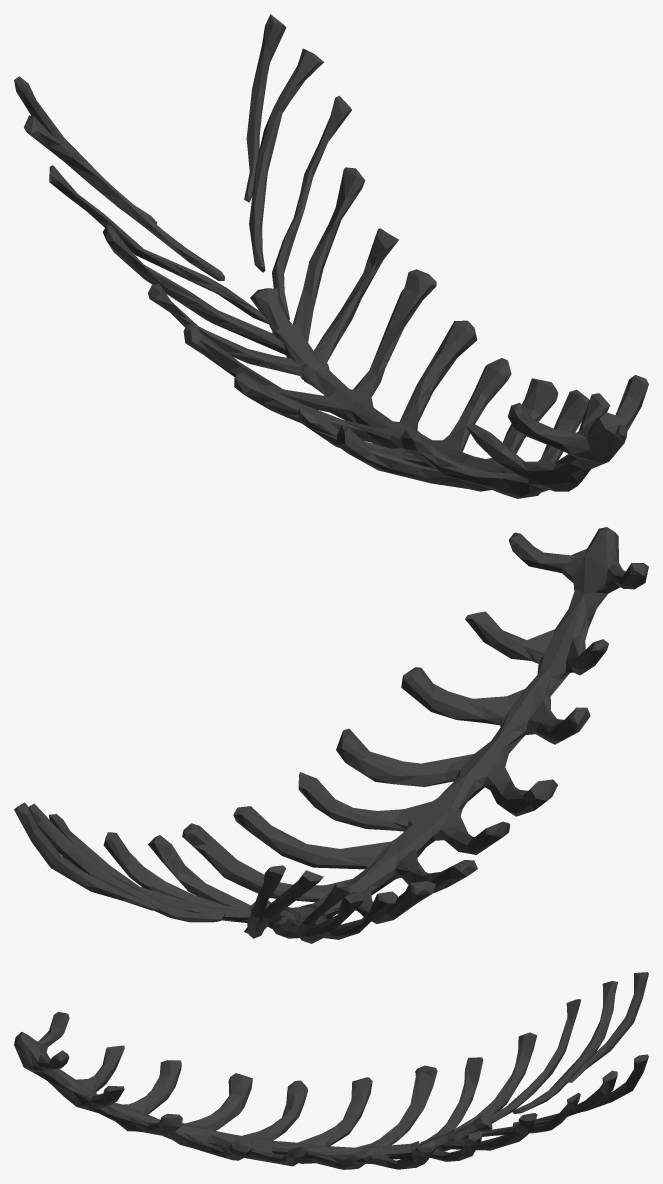
The model's file is Costal_cartilages.glb.
3 views of the same model, one above another, from view 1: azimuth 30°, elevation 25°; view 2: azimuth 150°, elevation 25°; view 3: azimuth 270°, elevation 25° (orthographic). The views are drawn at different scales.
Parts seen in each view (by area): view 1: Costal_cartilages; view 2: Costal_cartilages; view 3: Costal_cartilages.
Boxes of the visible parts, box(x1,y1,x2,y2) form: Costal_cartilages: box(14, 14, 648, 498); Costal_cartilages: box(14, 527, 648, 943); Costal_cartilages: box(14, 972, 648, 1169).
Bounding box in the file's own units: 0.00356 × 0.00251 × 0.00962.
1 material, 1 textured.
